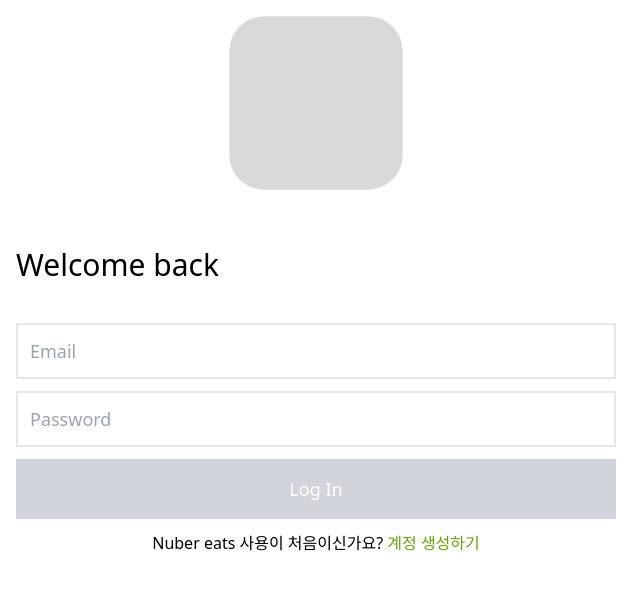
Test: Log In › 이메일, 비밀번호 검증 오류 메시지를 확인합니다.
Step 1. Type "not@allowed" into the field with placeholder "Email" → (316, 351), box [16, 323, 616, 379]
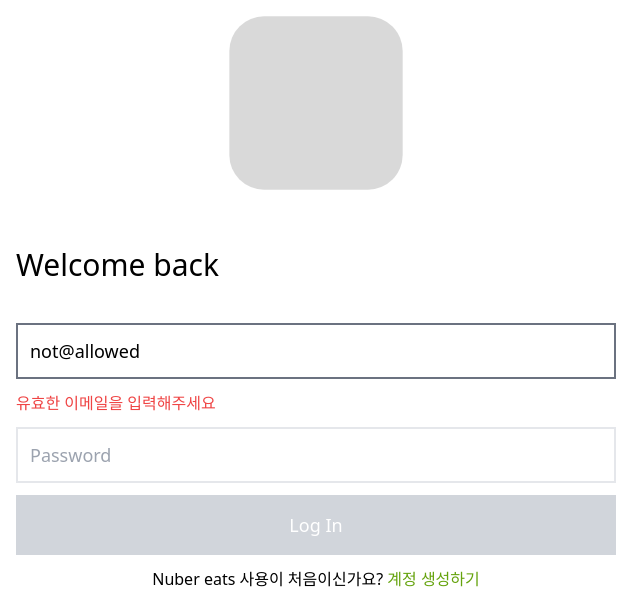
Expected: the text "유효한 이메일을 입력해주세요" is shown, [16, 392, 216, 414]
Step 2. Clear the field with placeholder "Email" → (316, 351), box [16, 323, 616, 379]
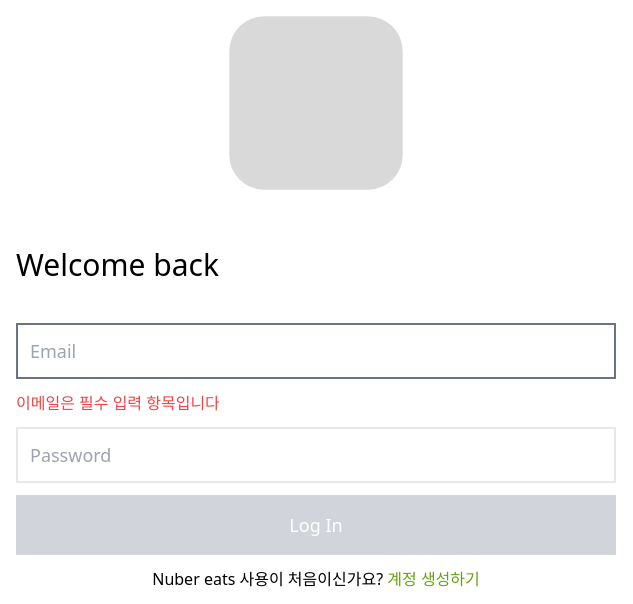
Expected: the text "이메일은 필수 입력 항목입니다" is shown, [16, 392, 220, 414]
Step 3. Type "test@account.com" into the field with placeholder "Email" → (316, 351), box [16, 323, 616, 379]
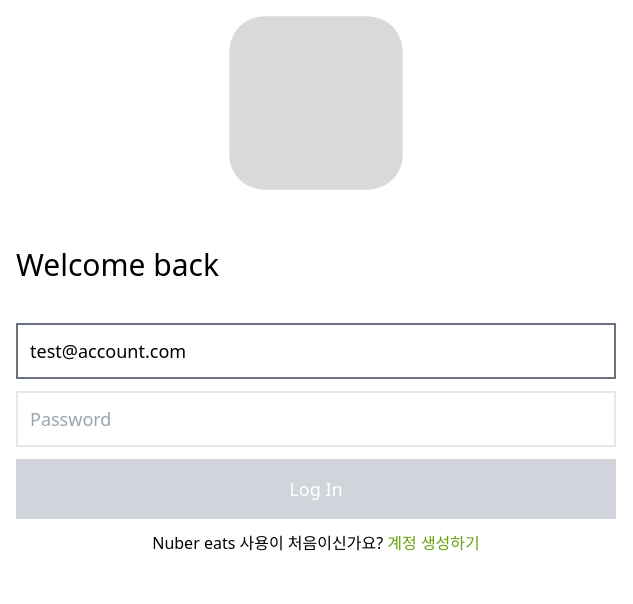
Step 4. Type "1234" into the password field with placeholder "Password" → (316, 419), box [16, 391, 616, 447]
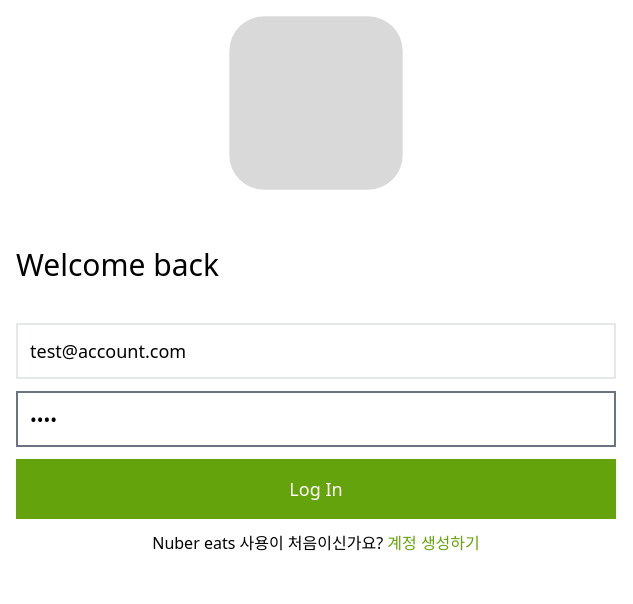
Step 5. Clear the password field with placeholder "Password" → (316, 419), box [16, 391, 616, 447]
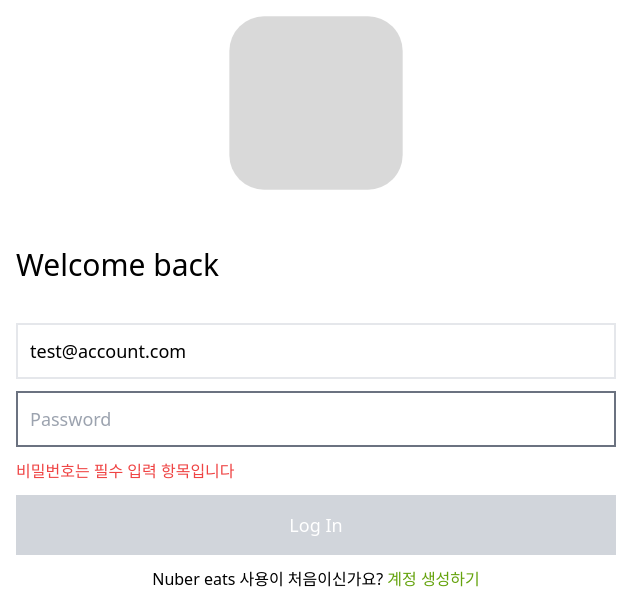
Expected: the text "비밀번호는 필수 입력 항목입니다" is shown, [16, 460, 235, 482]
